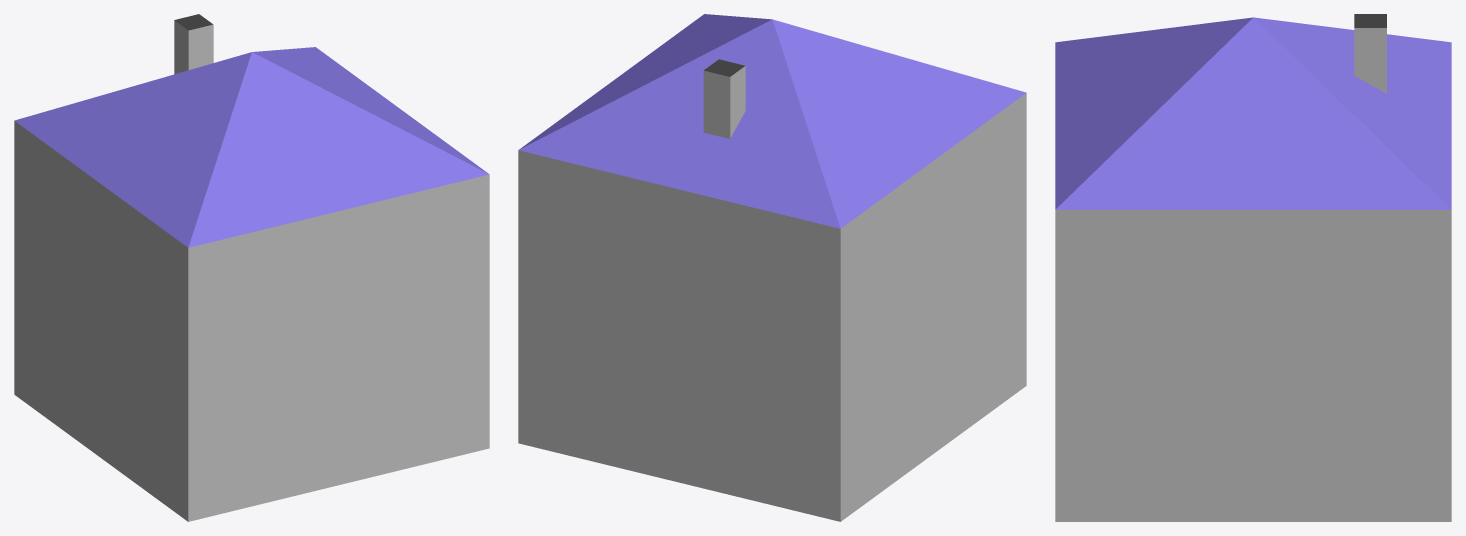
File: simpleHouse.fbx
3 renders of one model, left to right at view 1: azimuth 30°, elevation 25°; view 2: azimuth 150°, elevation 25°; view 3: azimuth 270°, elevation 25°, orthographic. The views are drawn at different scales.
Parts seen in each view (by area): view 1: Cube.002; view 2: Cube.002; view 3: Cube.002.
Boxes of the visible parts, bbox=[...] form: Cube.002: bbox=[14, 14, 489, 521]; Cube.002: bbox=[518, 14, 1026, 521]; Cube.002: bbox=[1055, 14, 1451, 521].
Bounding box in the file's own units: 1322 × 1548 × 1322.
